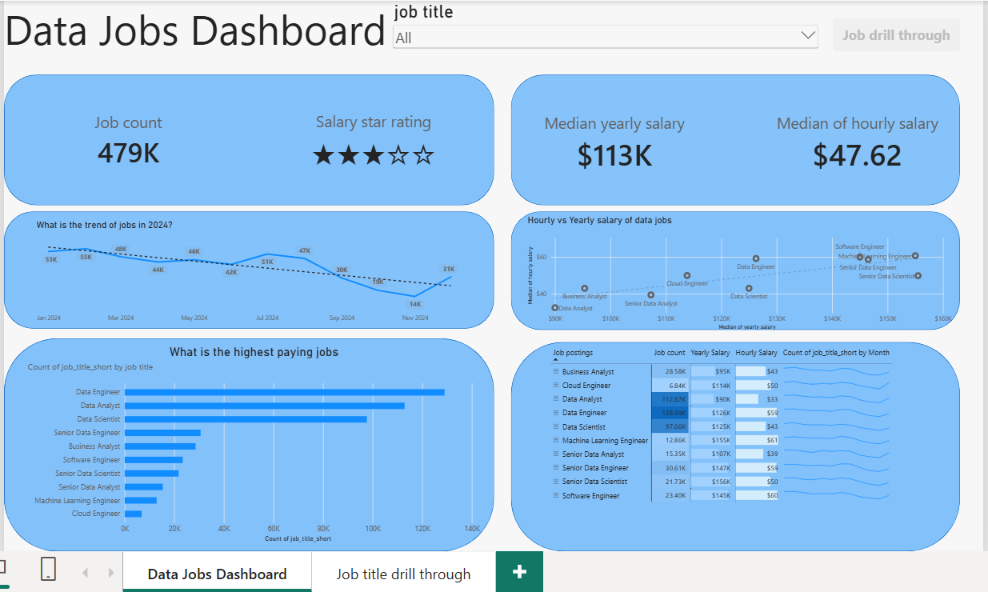

The dashboard page shown, as its layout file describes it:
{"tool":"powerbi","page":{"name":"Data Jobs Dashboard","canvas":[1920,1080],"ordinal":0},"visuals":[{"type":"group","id":"g1","title":"Group 1","box":[0,144.8,1874.8,935.6],"z":0},{"type":"shape","box":[0,144.8,961.2,256.3],"z":0,"group":"g1"},{"type":"textbox","box":[0,0,787.9,144.8],"z":1000},{"type":"shape","box":[994.4,145.4,880.5,256.3],"z":1000,"group":"g1"},{"type":"slicer","fields":{"Values":["job_postings_flat.job_title_short"]},"box":[757.1,0,844.9,125.8],"z":2000},{"type":"shape","box":[0,413.5,961.2,230.2],"z":2000,"group":"g1"},{"type":"cardVisual","fields":{"Data":["CountNonNull(job_postings_flat.job_title_short)"]},"box":[0,167.6,488.9,211.2],"z":3000},{"type":"shape","box":[994.4,413.5,880.5,232.6],"z":3000,"group":"g1"},{"type":"cardVisual","fields":{"Data":["job_postings_flat.Salary star rating"]},"box":[488.8,170.4,472.3,211.2],"z":4000},{"type":"shape","box":[0,662.2,961.2,417.7],"z":4000,"group":"g1"},{"type":"cardVisual","fields":{"Data":["Median(job_postings_flat.salary_year_avg)"]},"box":[949.6,173.2,496,211.2],"z":5000},{"type":"shape","box":[994.4,669.8,880.5,410.6],"z":5000,"group":"g1"},{"type":"cardVisual","fields":{"Data":["Median(job_postings_flat.salary_hour_avg)"]},"box":[1444,173.2,462.8,211.2],"z":6000},{"type":"lineChart","title":"What is the trend of jobs in 2024?","fields":{"Category":["job_postings_flat.job_posted_date.Variation.Date Hierarchy.Year","job_postings_flat.job_posted_date.Variation.Date Hierarchy.Quarter","job_postings_flat.job_posted_date.Variation.Date Hierarchy.Month","job_postings_flat.job_posted_date.Variation.Date Hierarchy.Day"],"Y":["CountNonNull(job_postings_flat.job_title_short)"]},"box":[47.5,415.3,871.4,237.4],"z":7000},{"type":"barChart","title":"What is the highest paying jobs","fields":{"Category":["job_postings_flat.job_title_short"],"Y":["CountNonNull(job_postings_flat.job_title_short)"]},"box":[30.9,659.8,918.9,418.9],"z":8000},{"type":"scatterChart","title":"Hourly vs Yearly salary of data jobs","fields":{"Series":["job_postings_flat.job_title_short"],"X":["Median(job_postings_flat.salary_year_avg)"],"Y":["Median(job_postings_flat.salary_hour_avg)"]},"box":[1011,405.8,863.9,256.3],"z":9000},{"type":"pivotTable","fields":{"Rows":["job_postings_flat.job_title_short","job_postings_flat.job_posted_date.Variation.Date Hierarchy.Quarter"],"Values":["CountNonNull(job_postings_flat.job_title_short)","Median(job_postings_flat.salary_year_avg)","Median(job_postings_flat.salary_hour_avg)","SparklineData(CountNonNull(job_postings_flat.job_title_short)_[job_postings_flat.job_posted_date.Variation.Date Hierarch"]},"box":[1055.7,661.9,776.4,418.9],"z":10000},{"type":"actionButton","box":[1625.7,33.2,249.2,66.5],"z":10001}]}

Visuals, with their boxes in screenshot pixels (x1, y1, x2, y2):
"Group 1" group: <bbox>5, 73, 957, 548</bbox>
shape: <bbox>5, 73, 493, 204</bbox>
textbox: <bbox>5, 0, 405, 73</bbox>
shape: <bbox>510, 74, 957, 204</bbox>
slicer - job_postings_flat.job_title_short: <bbox>389, 0, 818, 64</bbox>
shape: <bbox>5, 210, 493, 327</bbox>
cardVisual - CountNonNull(job_postings_flat.job_title_short): <bbox>5, 85, 253, 192</bbox>
shape: <bbox>510, 210, 957, 328</bbox>
cardVisual - job_postings_flat.Salary star rating: <bbox>253, 86, 493, 194</bbox>
shape: <bbox>5, 336, 493, 548</bbox>
cardVisual - Median(job_postings_flat.salary_year_avg): <bbox>487, 88, 739, 195</bbox>
shape: <bbox>510, 340, 957, 548</bbox>
cardVisual - Median(job_postings_flat.salary_hour_avg): <bbox>738, 88, 973, 195</bbox>
"What is the trend of jobs in 2024?" lineChart: <bbox>29, 211, 471, 331</bbox>
"What is the highest paying jobs" barChart: <bbox>21, 335, 487, 547</bbox>
"Hourly vs Yearly salary of data jobs" scatterChart: <bbox>518, 206, 957, 336</bbox>
pivotTable - job_postings_flat.job_title_short x job_postings_flat.job_posted_date.Variation.Date Hierarchy.Quarter: <bbox>541, 336, 935, 548</bbox>
actionButton: <bbox>830, 17, 957, 51</bbox>
